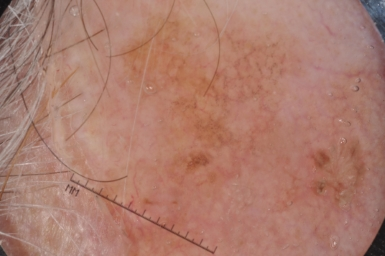melanoma: (120, 25, 232, 169)
